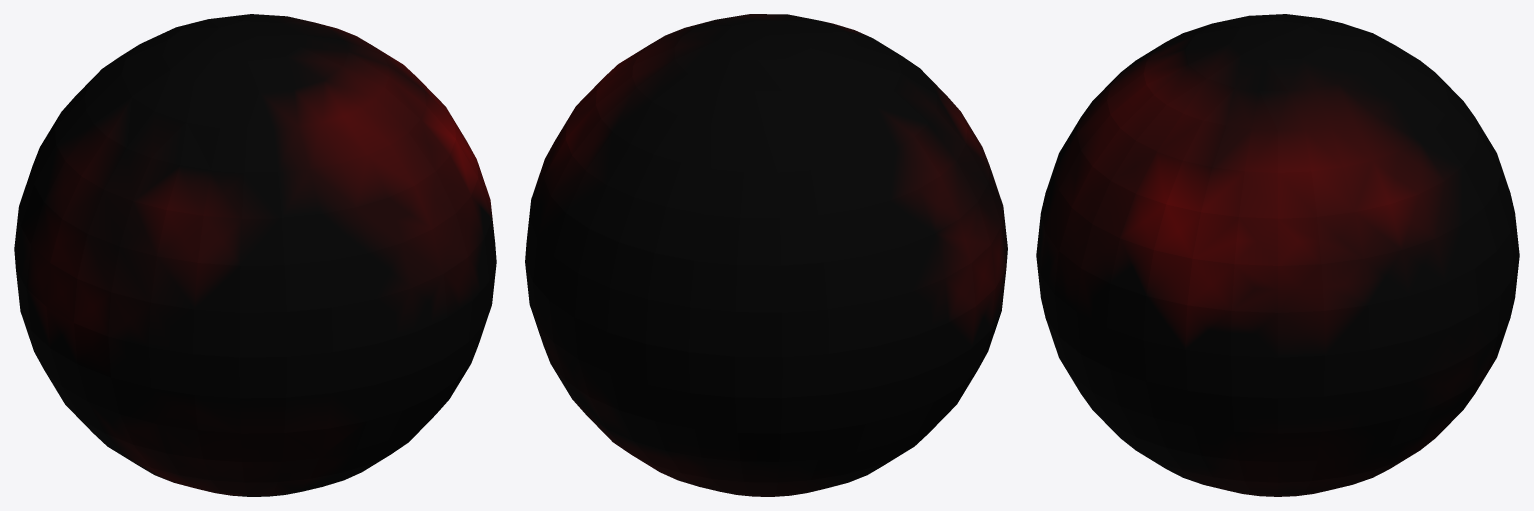
File: skybox.glb
The picture shows the model from 3 angles, left to right: view 1: azimuth 30°, elevation 25°; view 2: azimuth 150°, elevation 25°; view 3: azimuth 270°, elevation 25°; orthographic projection.
Visible parts, largest first — view 1: Sky; view 2: Sky; view 3: Sky.
Part boxes in pixels (x1,y1,x2,y2): Sky: (14,14,496,496); Sky: (525,14,1007,496); Sky: (1036,14,1519,496).
Bounding box in the file's own units: 10.04 × 10.04 × 10.04.
Materials: 1 (1 with a texture image).
